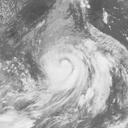cyclone: (37, 37, 113, 110)
